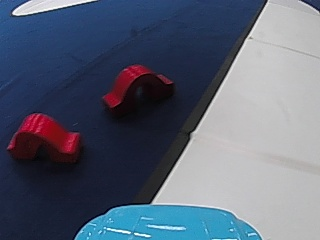bridge: (97, 62, 175, 122), (4, 109, 86, 164)
